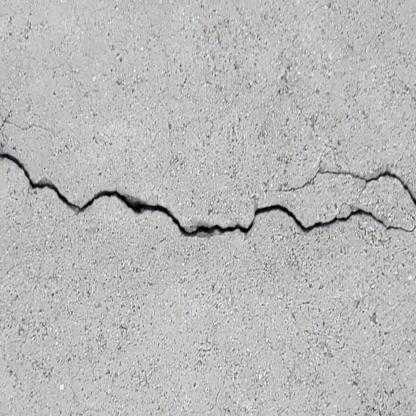crack: (0, 153, 416, 240), (273, 159, 415, 207)
